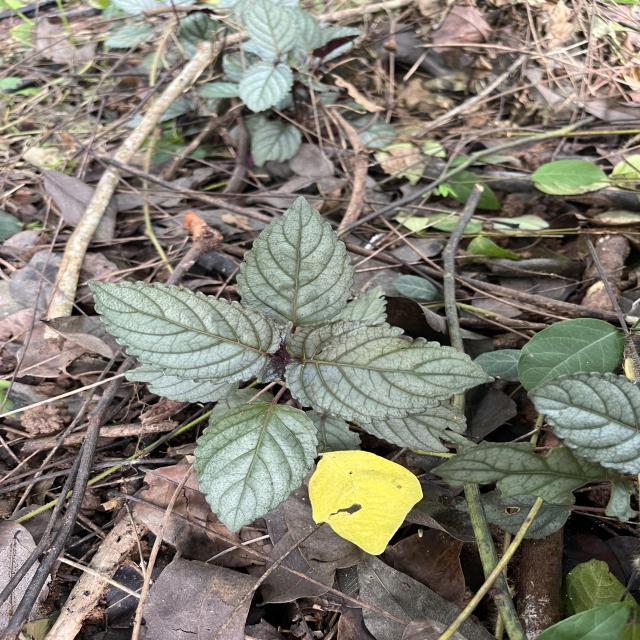Hemigraphis colorata: (283, 318, 497, 426), (85, 276, 282, 386), (191, 398, 320, 536), (234, 193, 358, 332), (524, 370, 640, 478)
